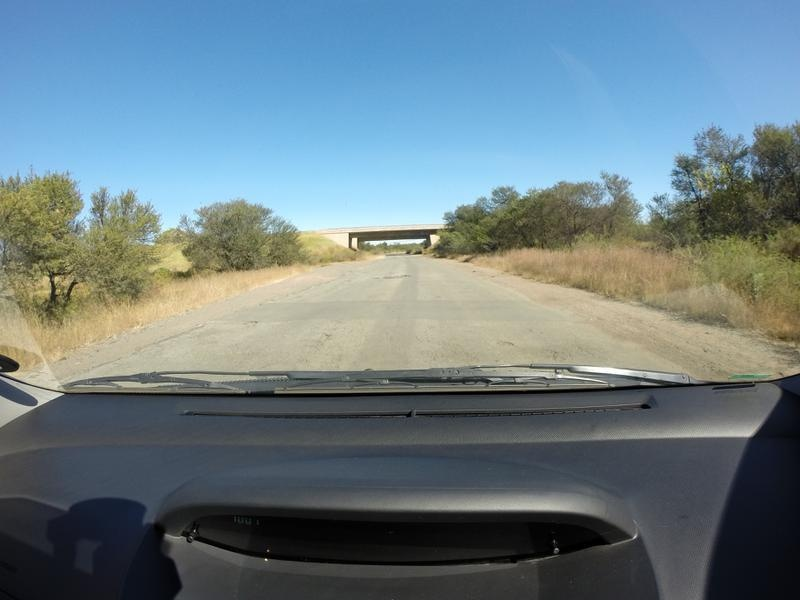pothole: (374, 269, 416, 282), (240, 317, 260, 327), (495, 338, 516, 347), (317, 330, 334, 340)
